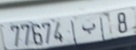4: (54, 20, 64, 43)
6: (31, 23, 42, 47)
7: (41, 22, 53, 44), (10, 24, 19, 47), (21, 23, 30, 45)
8: (117, 12, 129, 35)
b: (81, 21, 96, 35)
